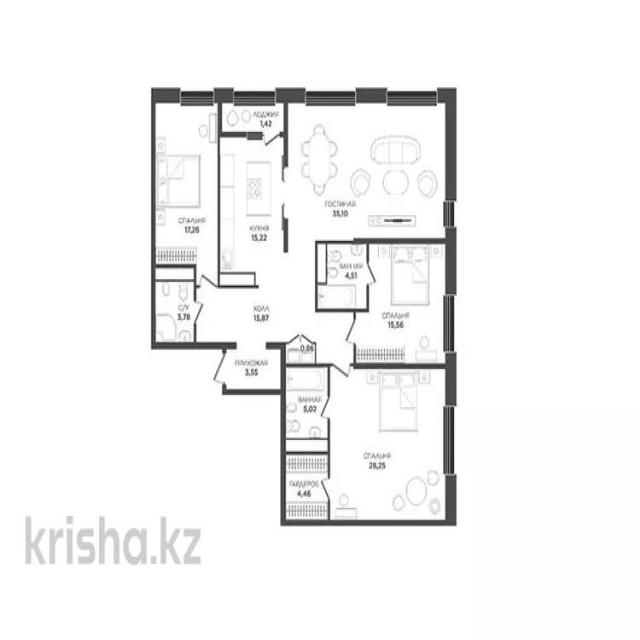balcony: (221, 104, 286, 135)
bathroom: (315, 245, 367, 309), (284, 365, 328, 438), (154, 279, 195, 344)
hallway: (202, 288, 312, 339), (225, 350, 282, 392)
kitchen: (220, 138, 282, 272)
living_room: (287, 104, 447, 240), (330, 365, 447, 522), (155, 103, 219, 264), (372, 245, 446, 362)
other: (285, 454, 328, 523)
